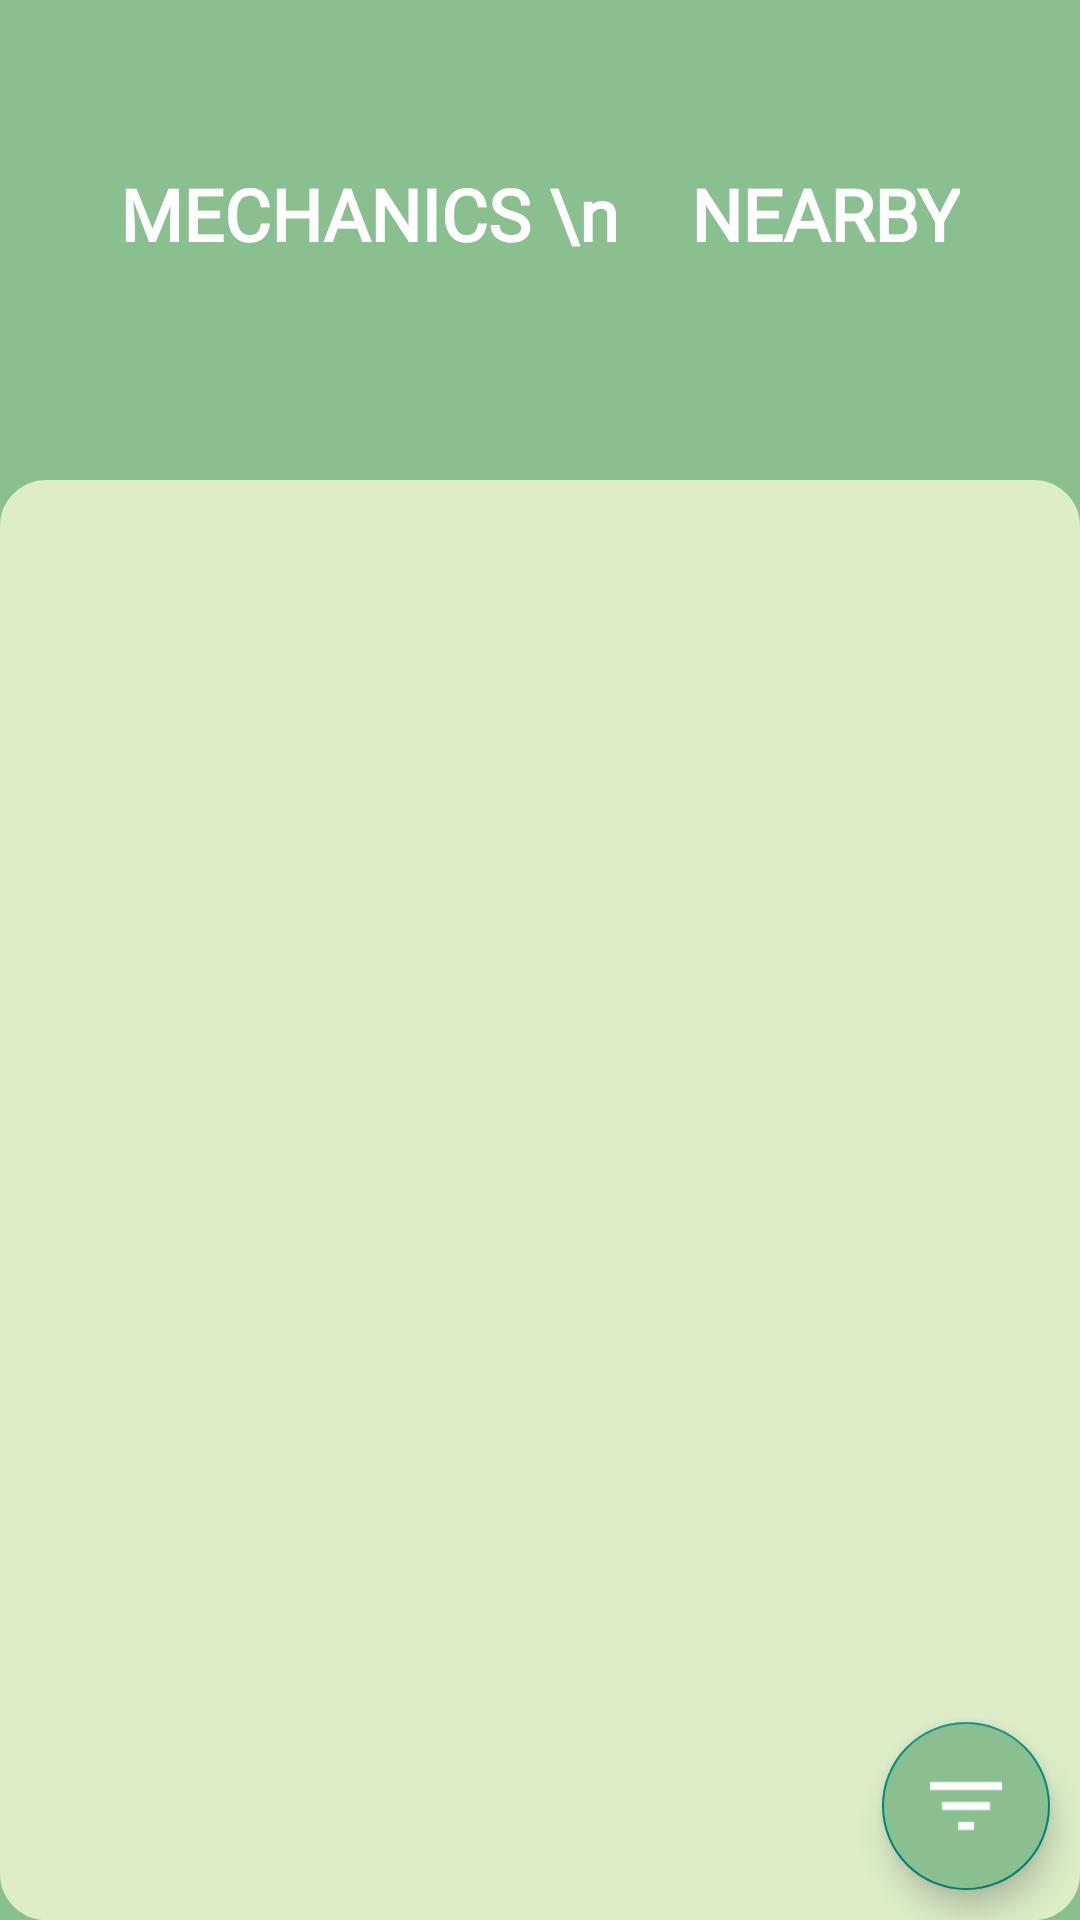

Locate icon controls on the screen. Image size 1080x1920, boxes as (x1, y1, x2, y2).
filter: (882, 1722, 1050, 1890)
